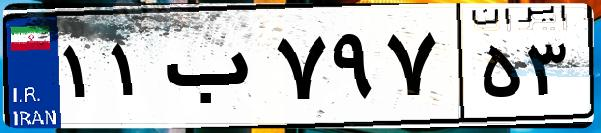1: (57, 26, 110, 100), (110, 28, 158, 98)
3: (525, 38, 570, 115)
5: (475, 38, 525, 113)
7: (270, 28, 330, 110), (385, 28, 445, 110)
9: (330, 28, 385, 110)
ب: (158, 20, 270, 120)
